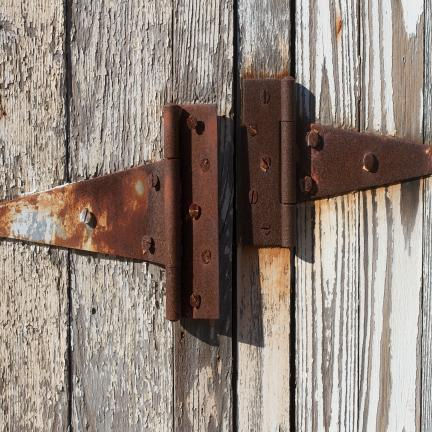karat: (242, 78, 431, 247), (0, 161, 165, 264), (165, 105, 219, 320), (297, 123, 431, 201), (242, 77, 296, 246), (159, 118, 188, 290)
